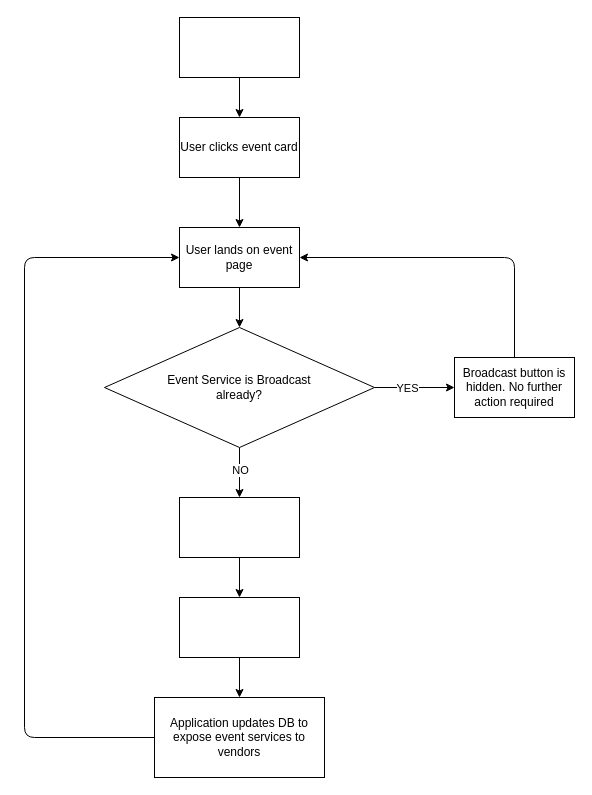
Some shapes in this 592 by 795 pixel diagram are drawn without their labels. Here are the shapes that lost their labels. From the top down, the box of each, then its label:
(178, 16, 300, 78): User is on events page
(178, 496, 300, 558): Broadcast button is visible
(178, 596, 300, 658): User clicks broadcast button
